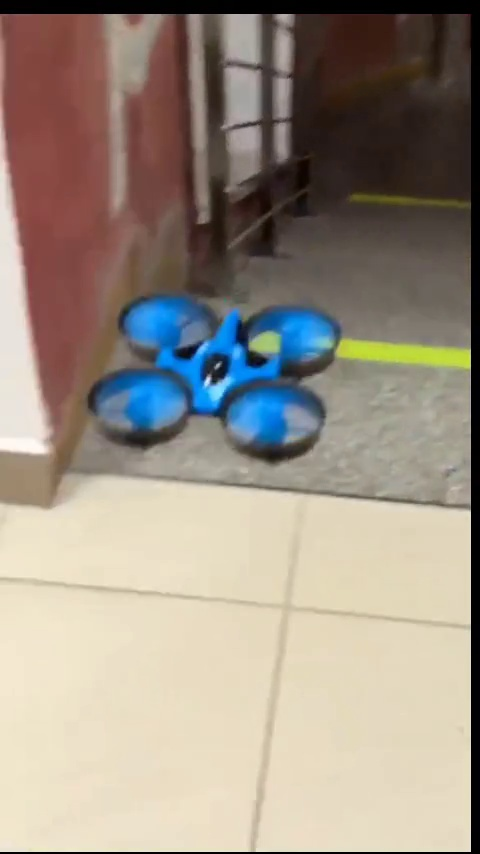drone: (86, 295, 335, 450)
